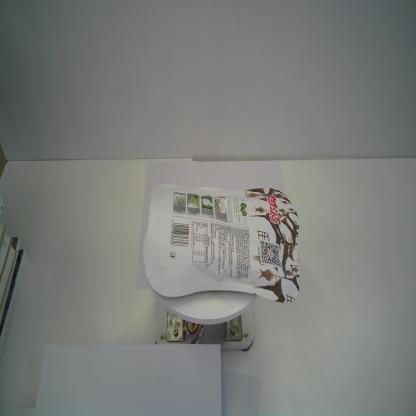Dried Fruit: (142, 182, 300, 304)
